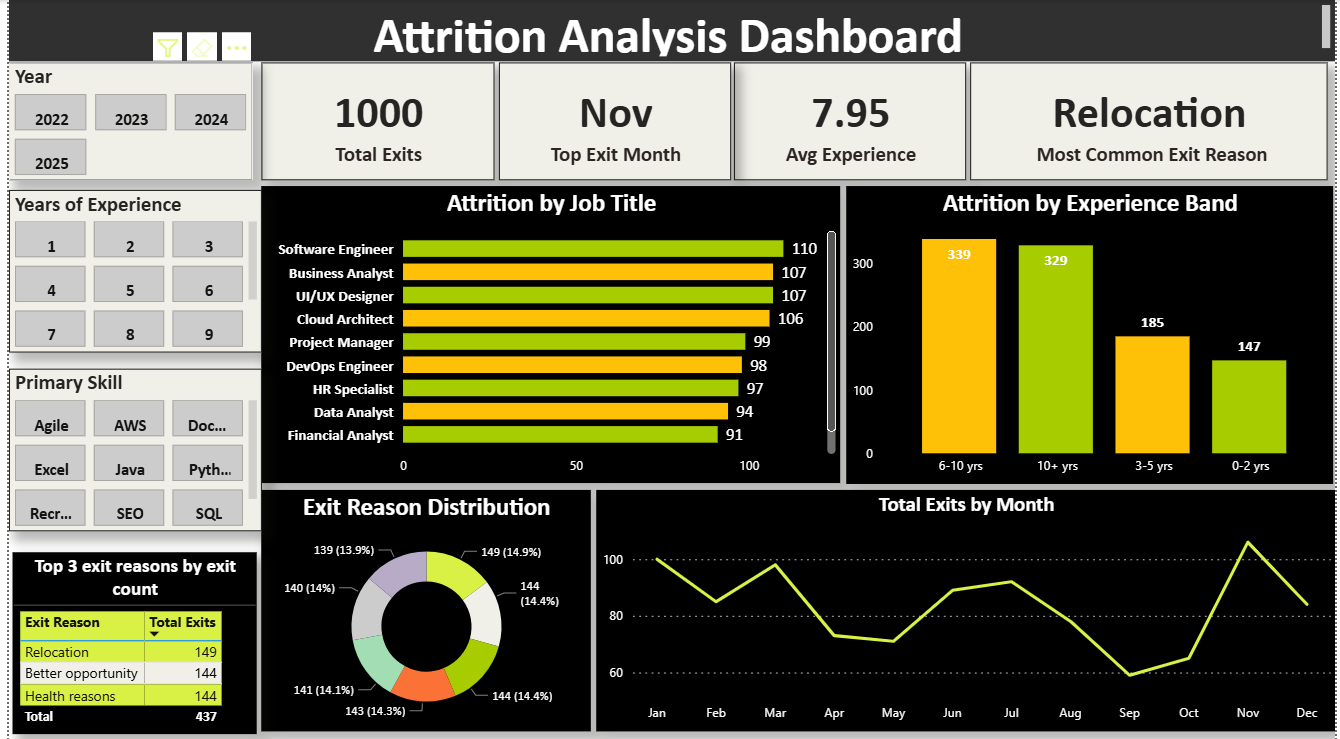

Layout of this report page (visuals, bound fields, positions):
{"tool":"powerbi","page":{"name":"Exit_Dashboard","canvas":[1280,720],"ordinal":0},"visuals":[{"type":"card","fields":{"Values":["Exitdata.Total Exits"]},"box":[243.7,60.3,225,113.4],"z":0},{"type":"textbox","box":[0,0,1280.3,59],"z":1000},{"type":"card","fields":{"Values":["Exitdata.Average Experience"]},"box":[699.7,60.3,224.4,113.4],"z":2000},{"type":"card","fields":{"Values":["Exitdata.Top Exit Month"]},"box":[472.9,60.3,224.4,113.4],"z":3000},{"type":"card","fields":{"Values":["Exitdata.MostCommonExitReason"]},"box":[927.8,60.3,345,113.4],"z":4000},{"type":"clusteredBarChart","title":"Attrition by Job Title","fields":{"Category":["Exitdata.Job Title"],"Y":["CountNonNull(Exitdata.Employee ID)"]},"box":[244.3,179.8,558.5,286.8],"z":5000},{"type":"columnChart","title":"Attrition by Experience Band","fields":{"Category":["Exitdata.Experience Band"],"Y":["CountNonNull(Exitdata.Employee ID)"]},"box":[808.3,179.8,469.3,287.1],"z":6000},{"type":"donutChart","title":"Exit Reason Distribution","fields":{"Category":["Exitdata.Exit Reason"],"Y":["CountNonNull(Exitdata.Employee ID)"]},"box":[243.7,472.9,317.3,232.8],"z":7000},{"type":"lineChart","fields":{"Y":["Exitdata.Total Exits"],"Category":["Exitdata.Month"]},"box":[567,472.9,713,232.8],"z":8000},{"type":"advancedSlicerVisual","fields":{"Values":["Exitdata.Year"]},"box":[0,60.3,235,113.4],"z":9000},{"type":"advancedSlicerVisual","fields":{"Values":["Exitdata.Years of Experience"]},"box":[0,183.4,243.7,156.8],"z":10000},{"type":"tableEx","title":"Top 3 exit reasons by exit count","fields":{"Values":["Exitdata.Exit Reason","Exitdata.Total Exits"]},"box":[3.6,533.2,235.3,174.9],"z":11000},{"type":"advancedSlicerVisual","fields":{"Values":["Exitdata.Primary Skill"]},"box":[0,355.9,243.7,156.8],"z":12000}]}

Visuals, with their boxes in screenshot pixels (x1, y1, x2, y2), scaled from the page's 1280x720 canvas onto the 1340x739 screenshot:
card - Exitdata.Total Exits: [255,62,491,178]
textbox: [0,0,1339,61]
card - Exitdata.Average Experience: [732,62,967,178]
card - Exitdata.Top Exit Month: [495,62,730,178]
card - Exitdata.MostCommonExitReason: [971,62,1332,178]
"Attrition by Job Title" clusteredBarChart: [256,185,840,479]
"Attrition by Experience Band" columnChart: [846,185,1337,479]
"Exit Reason Distribution" donutChart: [255,485,587,724]
lineChart - Exitdata.Total Exits x Exitdata.Month: [594,485,1339,724]
advancedSlicerVisual - Exitdata.Year: [0,62,246,178]
advancedSlicerVisual - Exitdata.Years of Experience: [0,188,255,349]
"Top 3 exit reasons by exit count" tableEx: [4,547,250,727]
advancedSlicerVisual - Exitdata.Primary Skill: [0,365,255,526]
